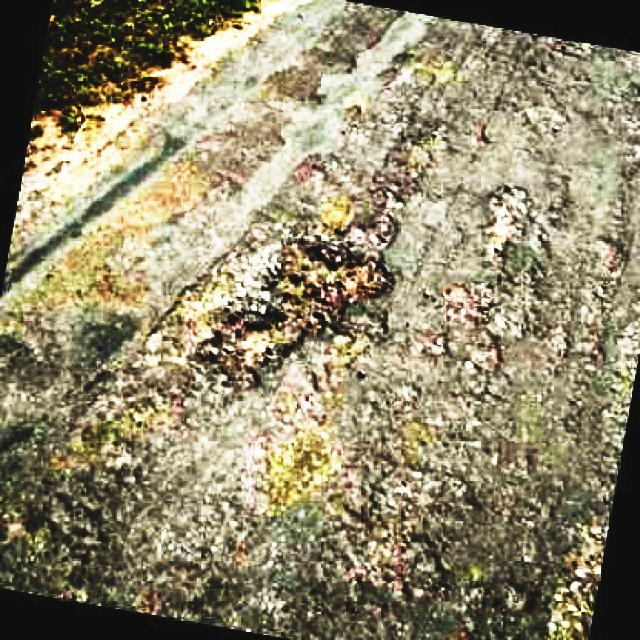pothole: (189, 201, 409, 397), (432, 280, 518, 372), (380, 523, 449, 603), (478, 185, 540, 260)
